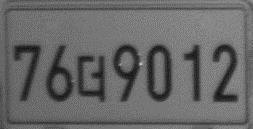0: (145, 43, 172, 102)
1: (177, 42, 206, 102)
2: (210, 43, 241, 104)
6: (44, 43, 74, 103)
7: (11, 42, 42, 102)
9: (111, 43, 141, 102)
더: (76, 54, 106, 103)
